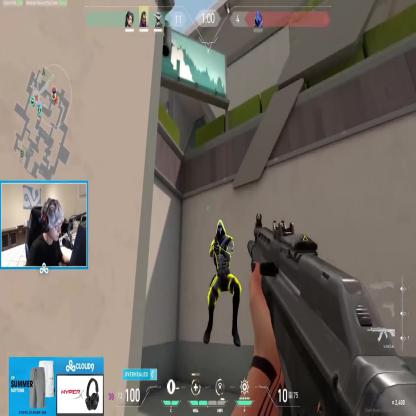enemy: (204, 218, 242, 346)
enemy_head: (214, 218, 226, 240)
